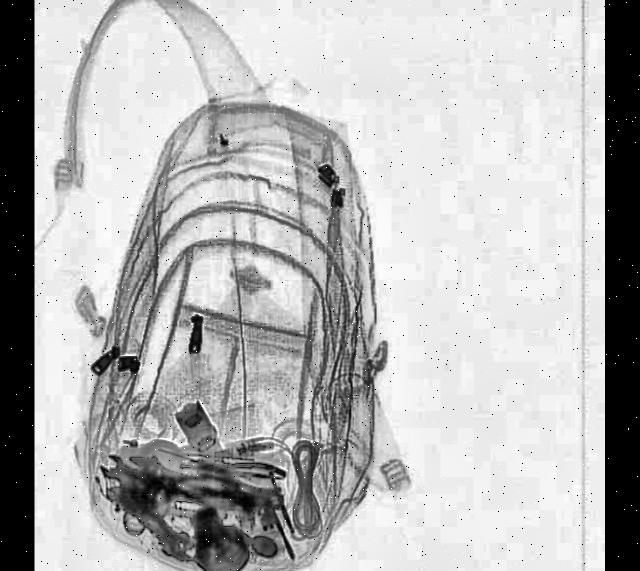Pliers: (200, 449, 291, 496)
Wrench: (98, 443, 198, 562)
